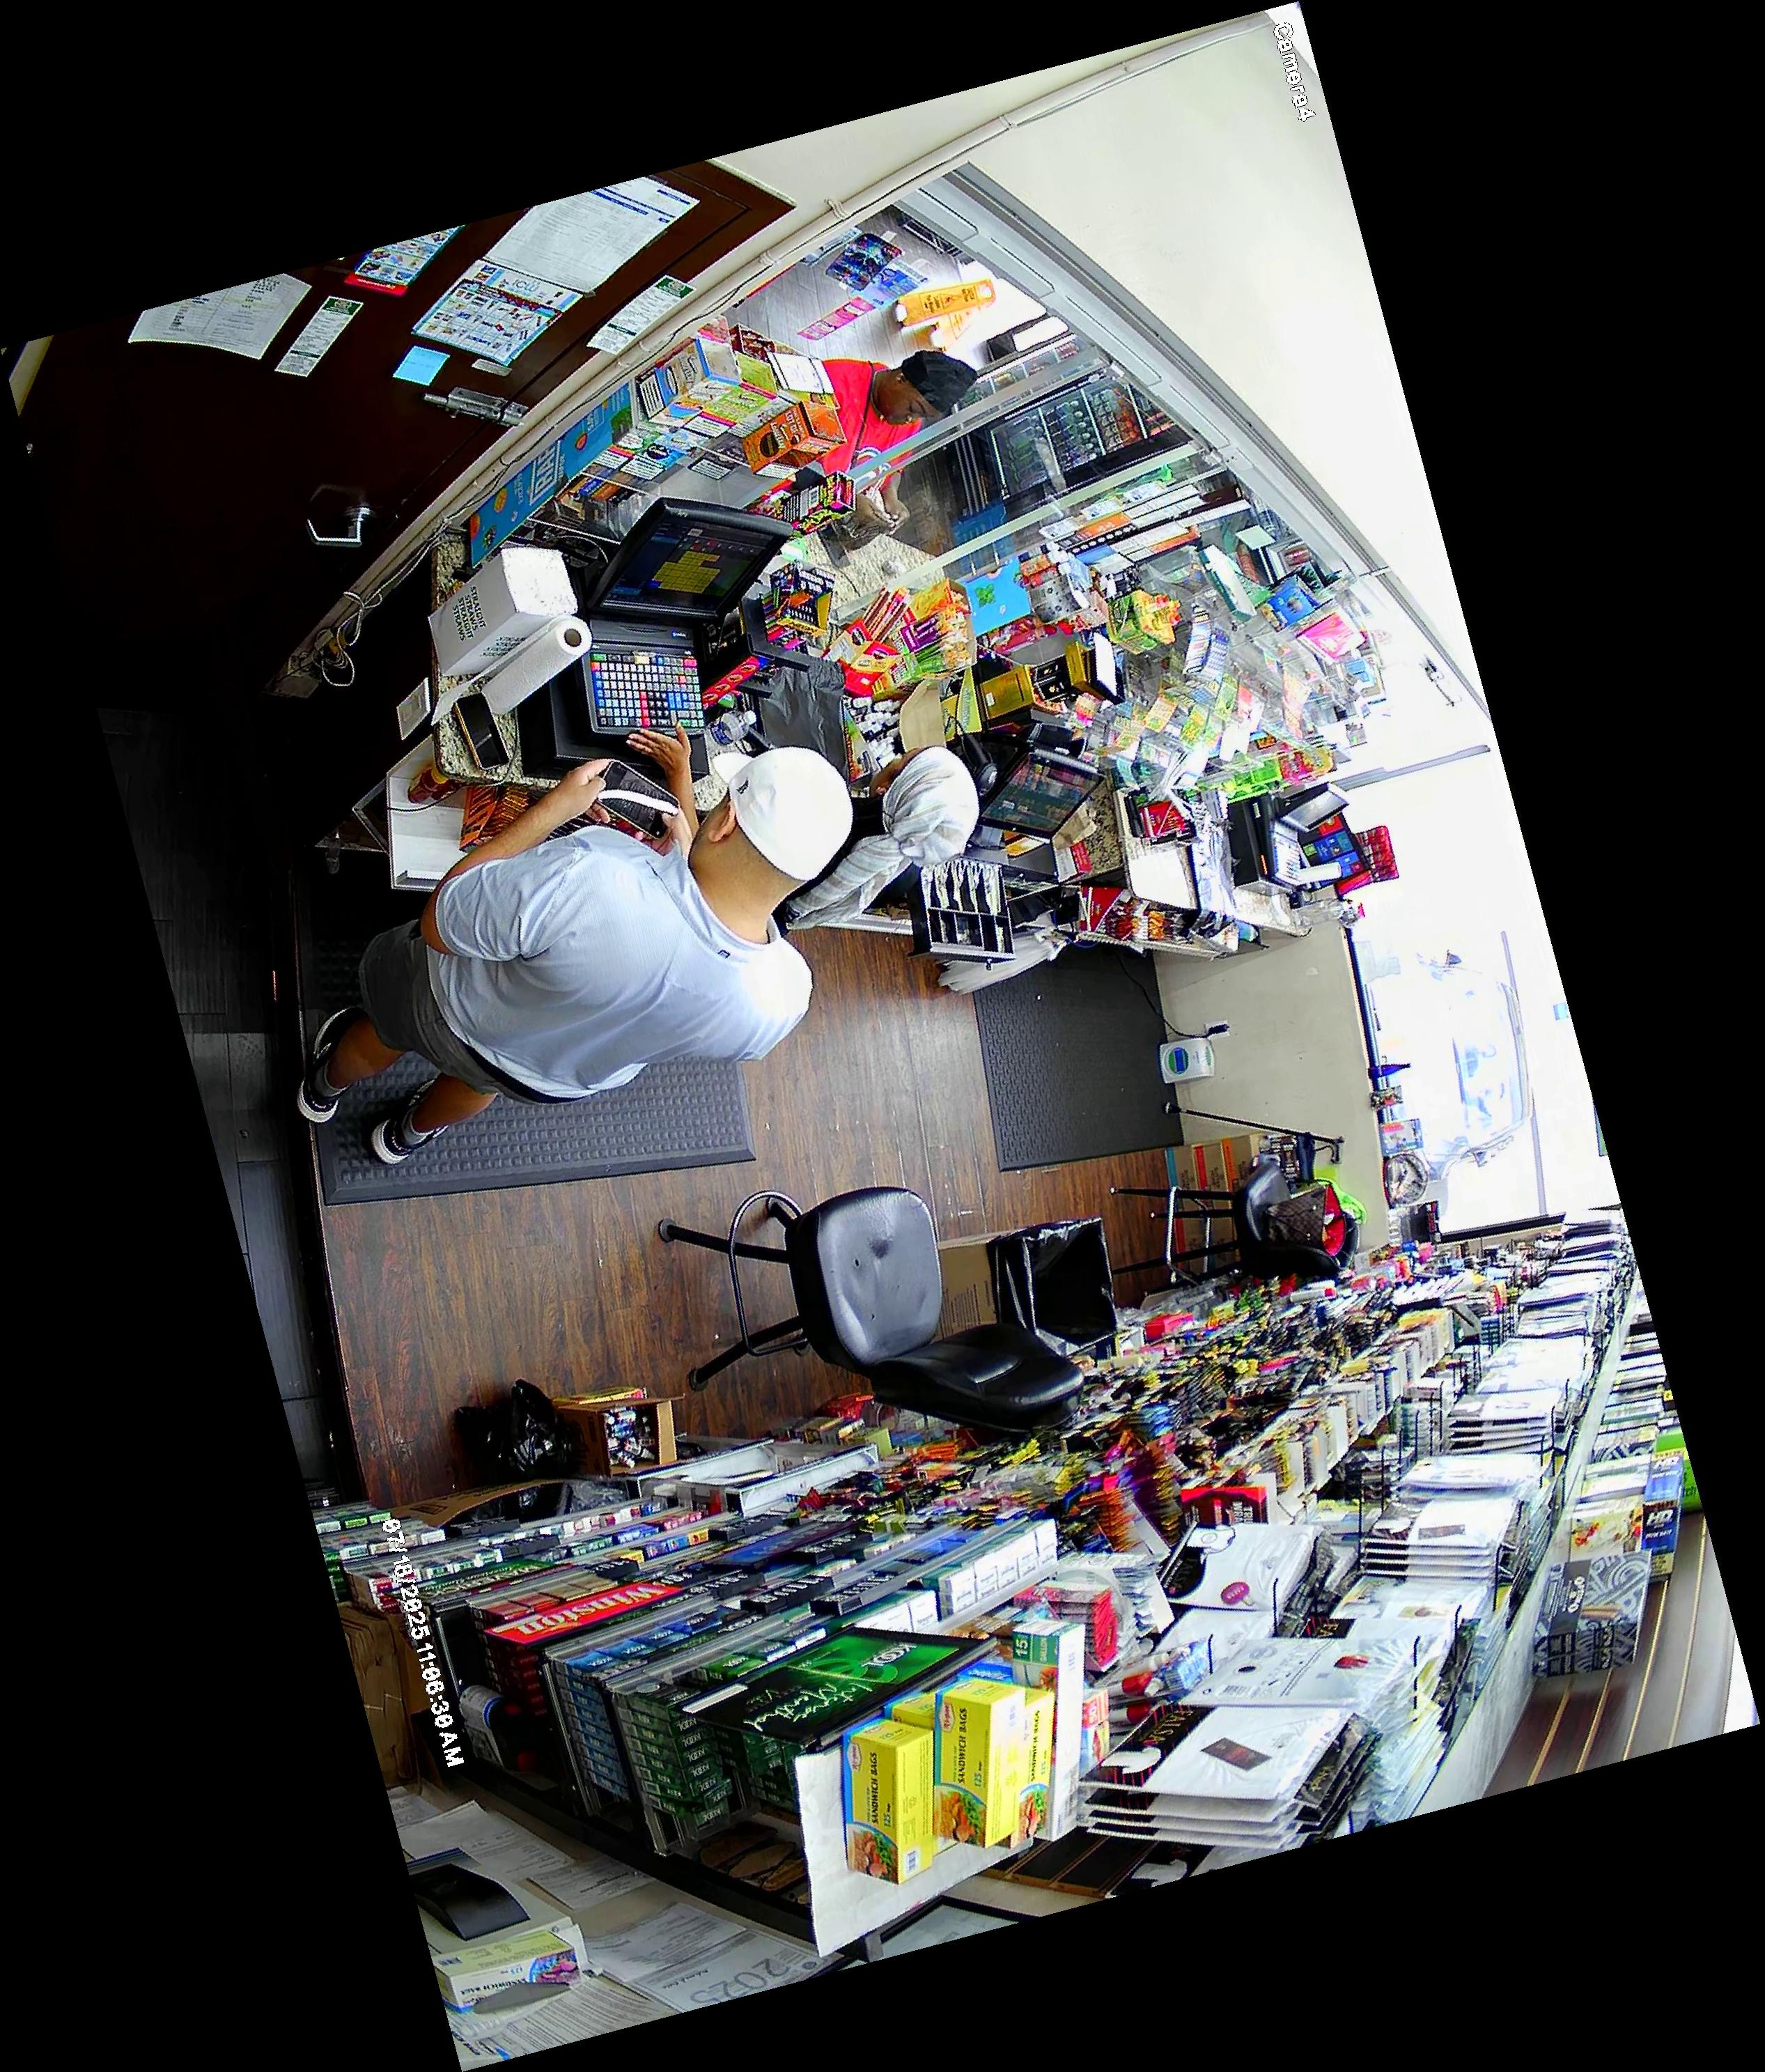phone: (583, 746, 695, 848)
